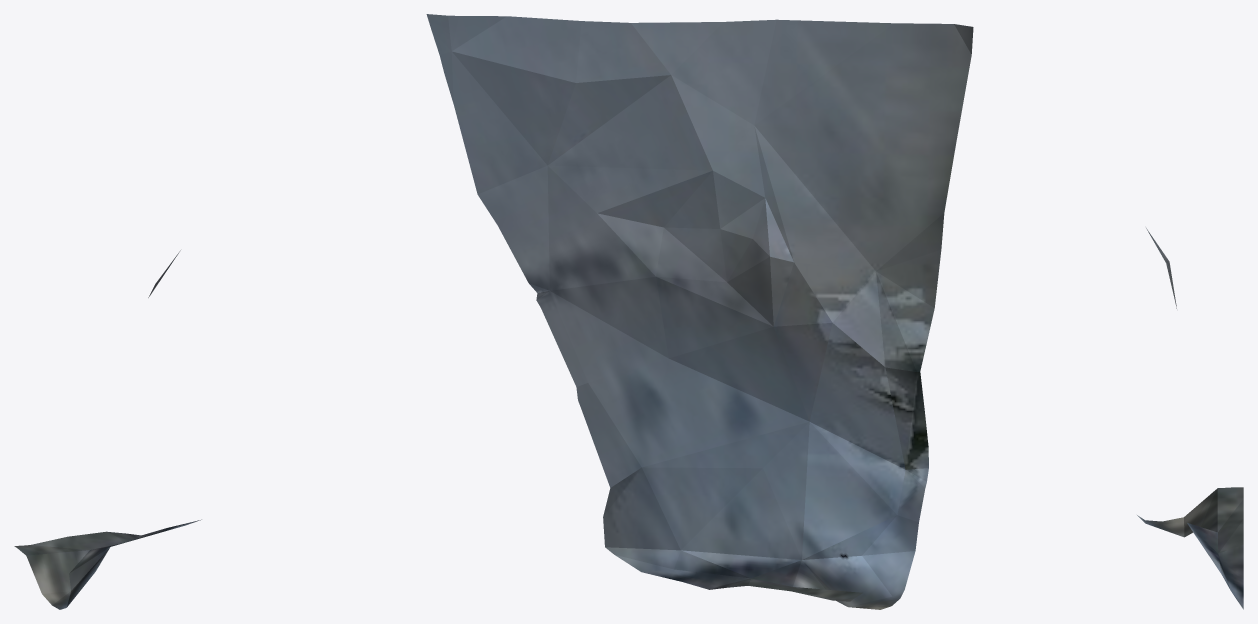
3 renders of one model, left to right at view 1: azimuth 30°, elevation 25°; view 2: azimuth 150°, elevation 25°; view 3: azimuth 270°, elevation 25°, orthographic. The views are drawn at different scales.
Bounding box in the file's own units: 1.13 × 1.32 × 0.5698.
1 material, 1 textured.
